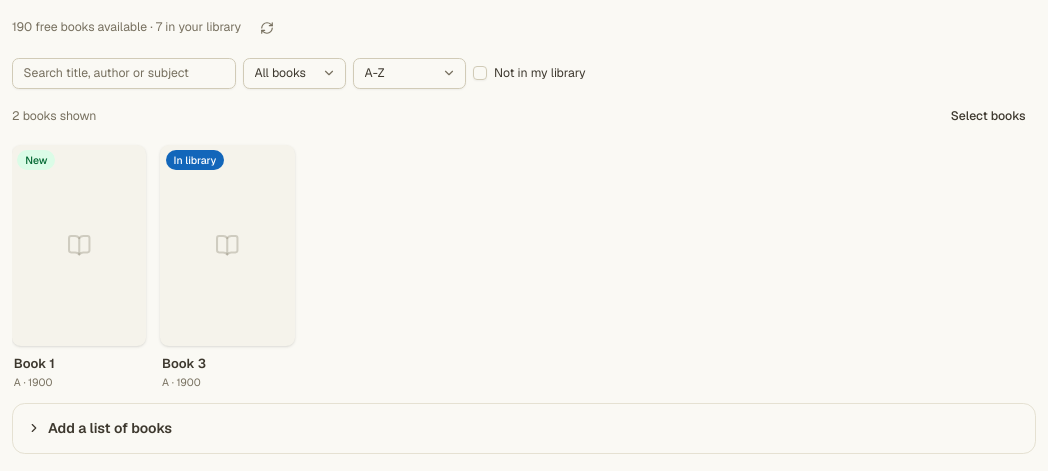
Test: the free books cards use the shared cover card, without Share › keeps the In library and New badges on the cover while selecting, next to the checkbox
Step 1. Click the button "Select books" → [988, 117], box [940, 103, 1036, 131]
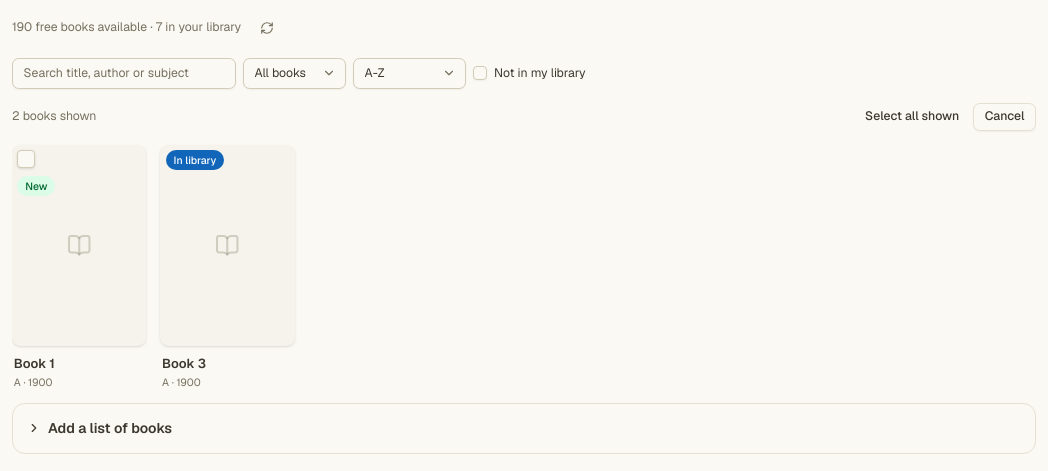
Expected: the text "New" is shown once, [17, 176, 56, 196]
Now the checkbox named "Select Book 1" is shown, box [17, 150, 35, 168]
